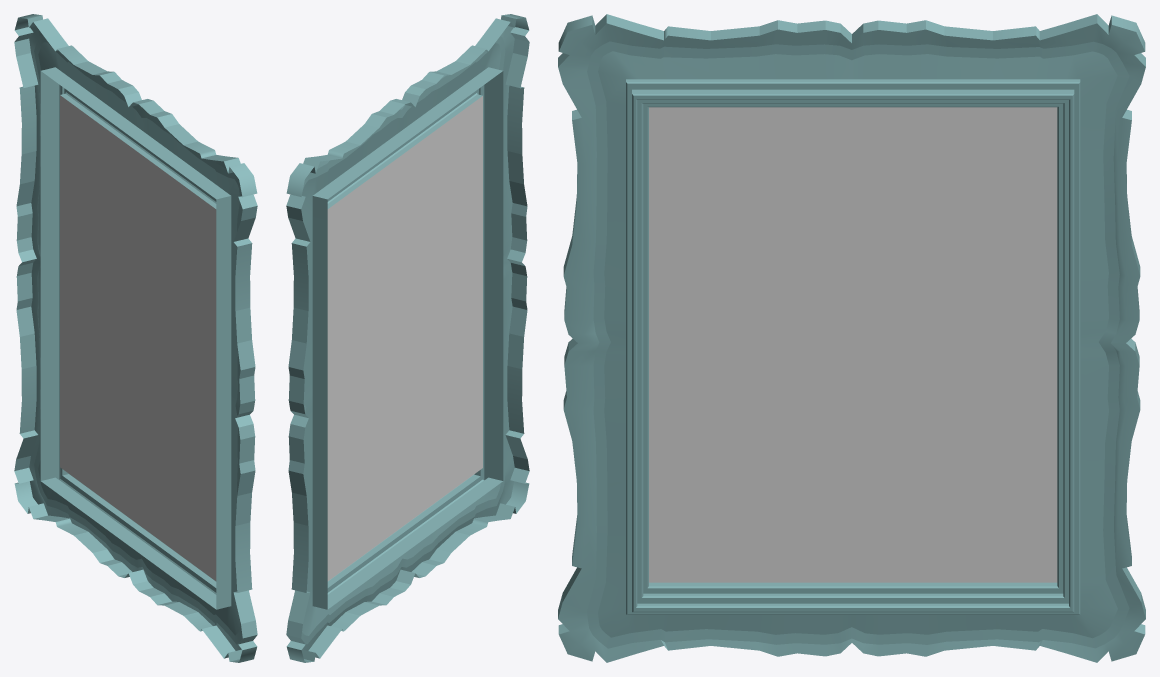
The model's file is picture2.fbx.
3 renders of one model, left to right at view 1: azimuth 30°, elevation 25°; view 2: azimuth 150°, elevation 25°; view 3: azimuth 270°, elevation 25°, orthographic. The views are drawn at different scales.
Parts seen in each view (by area): view 1: g PictureFrame; view 2: g PictureFrame; view 3: g PictureFrame.
Boxes of the visible parts, x1=… form: g PictureFrame: x1=14, y1=14, x2=257, y2=662; g PictureFrame: x1=286, y1=14, x2=529, y2=662; g PictureFrame: x1=558, y1=14, x2=1145, y2=662.
Size of the model in its own units: 45.34 by 779 by 649.
